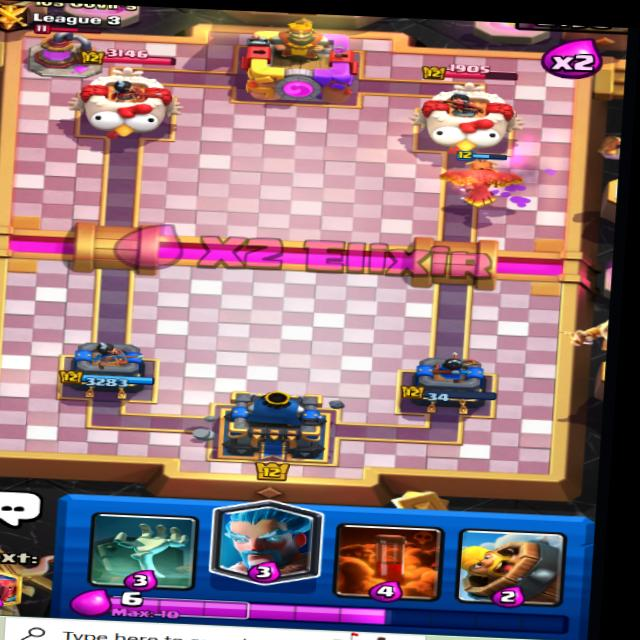Pump: (25, 21, 105, 75)
